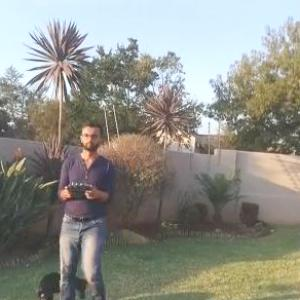follow: (55, 117, 118, 299)
null: (33, 268, 90, 299)
